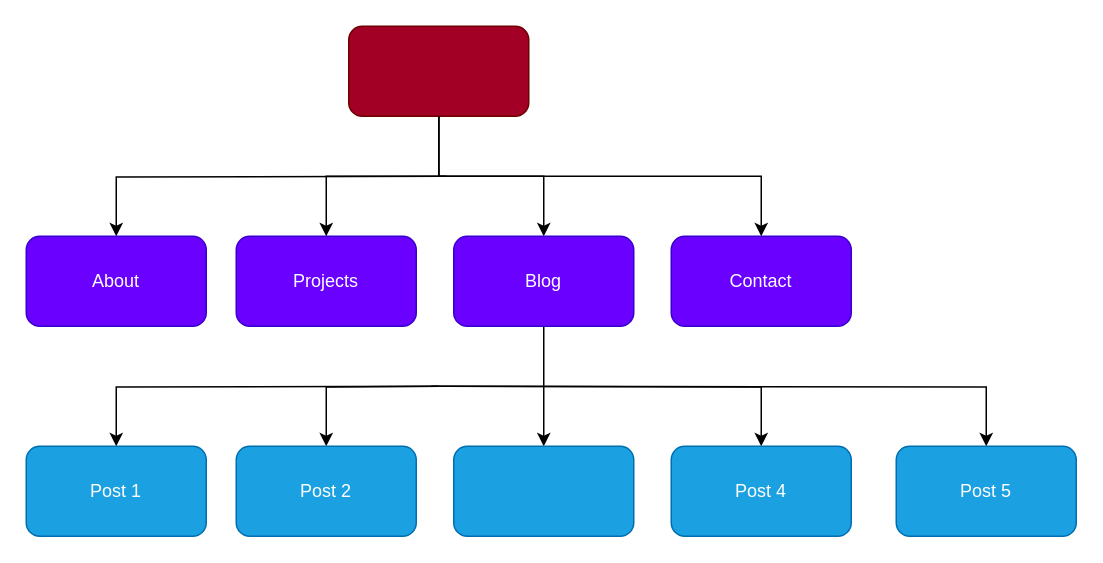
Some shapes in this 1103 by 563 pixel diagram are drawn without their labels. Each missing label, with the centre of its shape:
"Home" belongs at pixel 438 70.
"Post 3" belongs at pixel 543 490.
